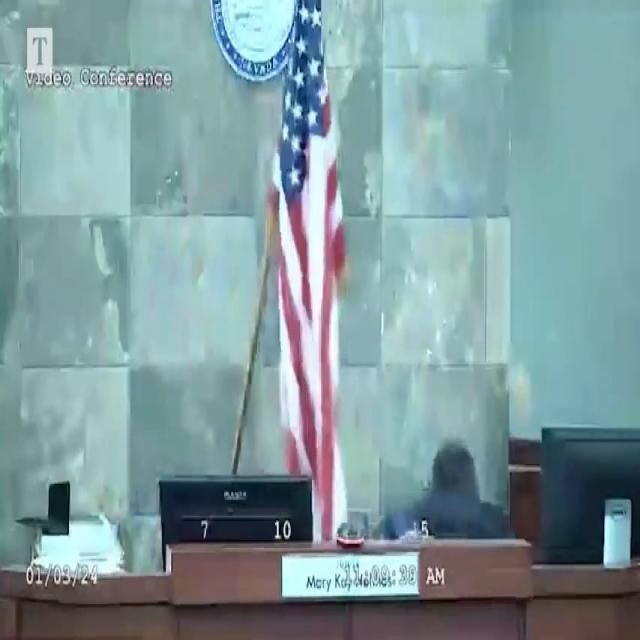non-fight: (372, 431, 518, 540)
